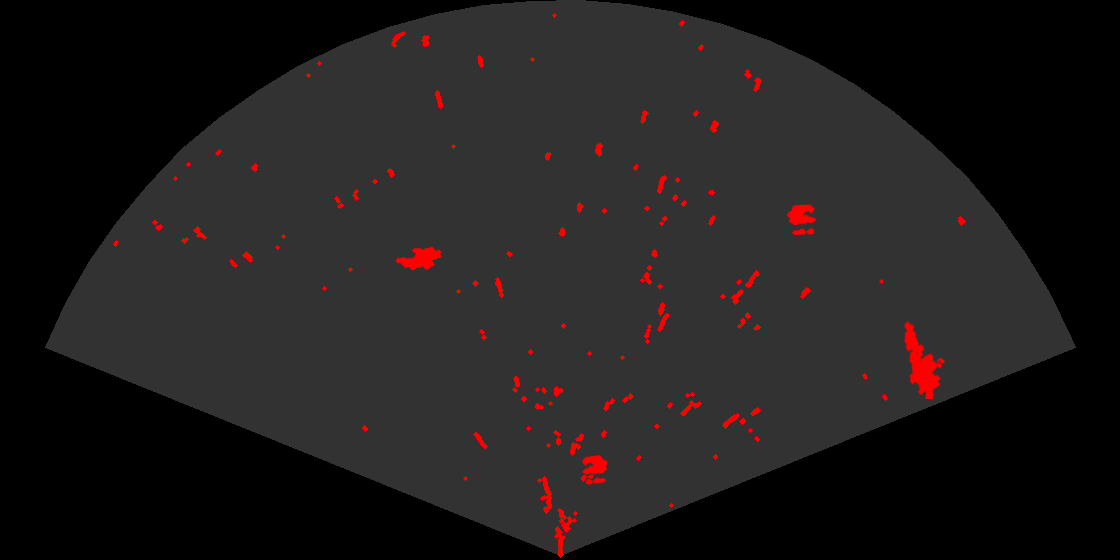AUV: (394, 245, 443, 272)
ball: (786, 203, 818, 237), (580, 453, 609, 486)
frogman: (903, 320, 944, 399)
